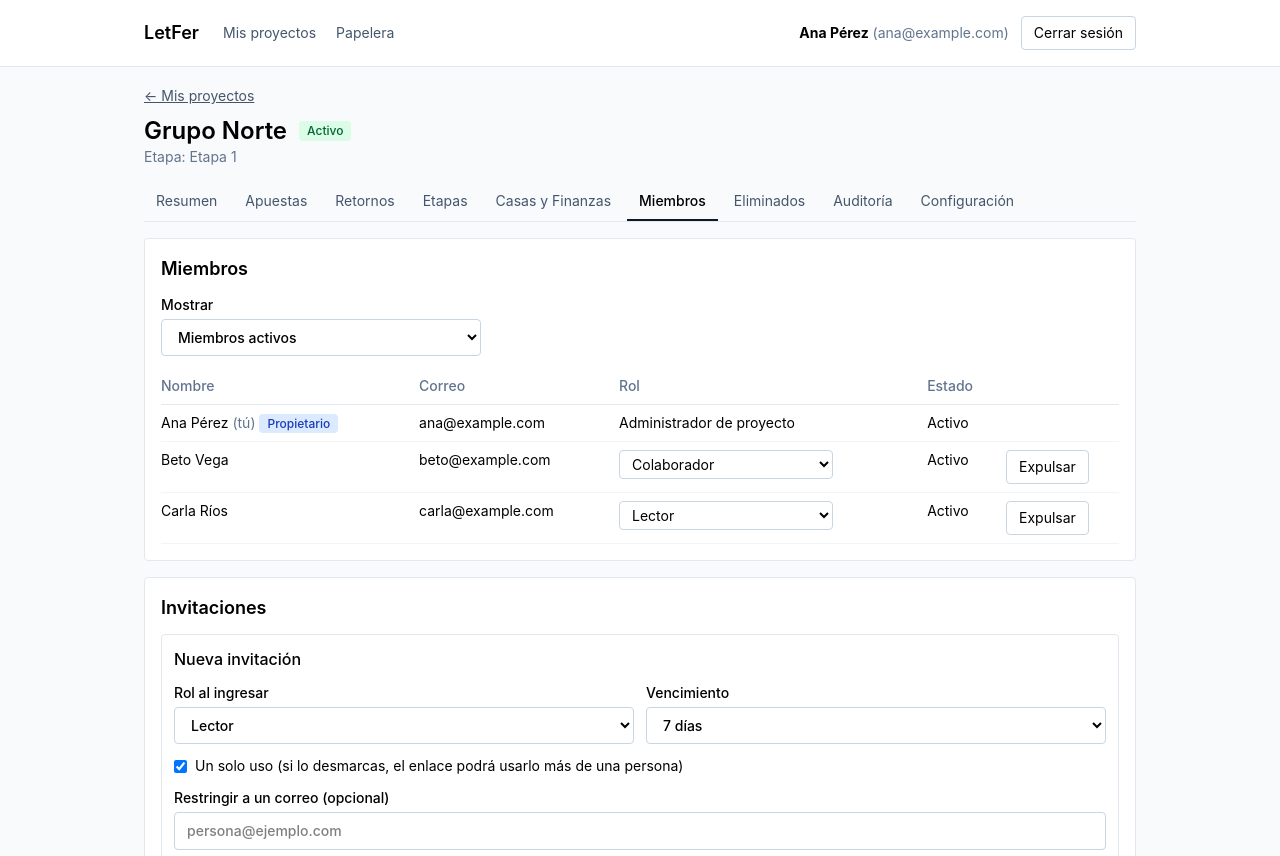
Scenario: miembros › expulsión › pide confirmación, envía el motivo y actualiza la lista
Click the button with aria-label "Expulsar a Beto Vega" at coordinates (1047, 467), box [1006, 450, 1089, 484]
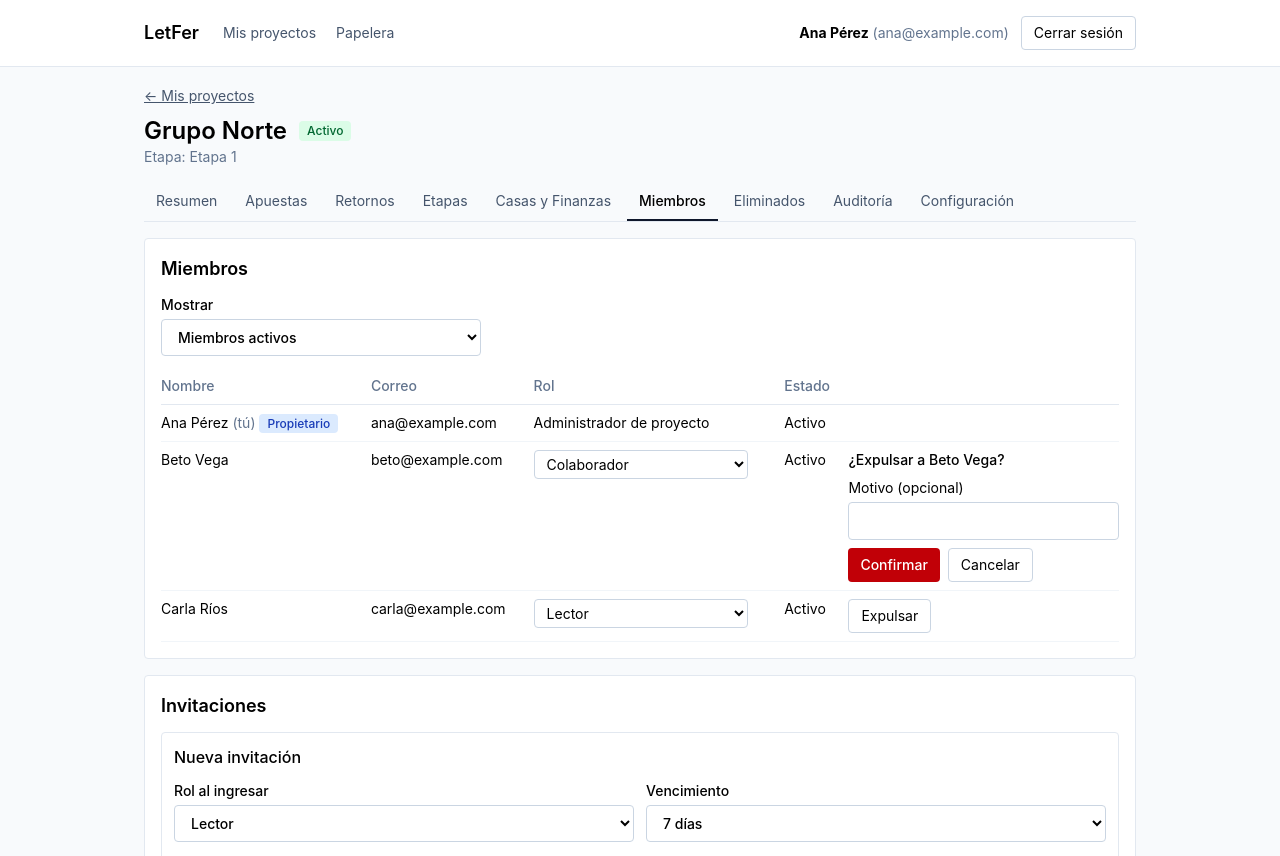
Type " Incumplió acuerdos " into the field labelled "Motivo (opcional)" at coordinates (984, 521), box [848, 502, 1119, 540]
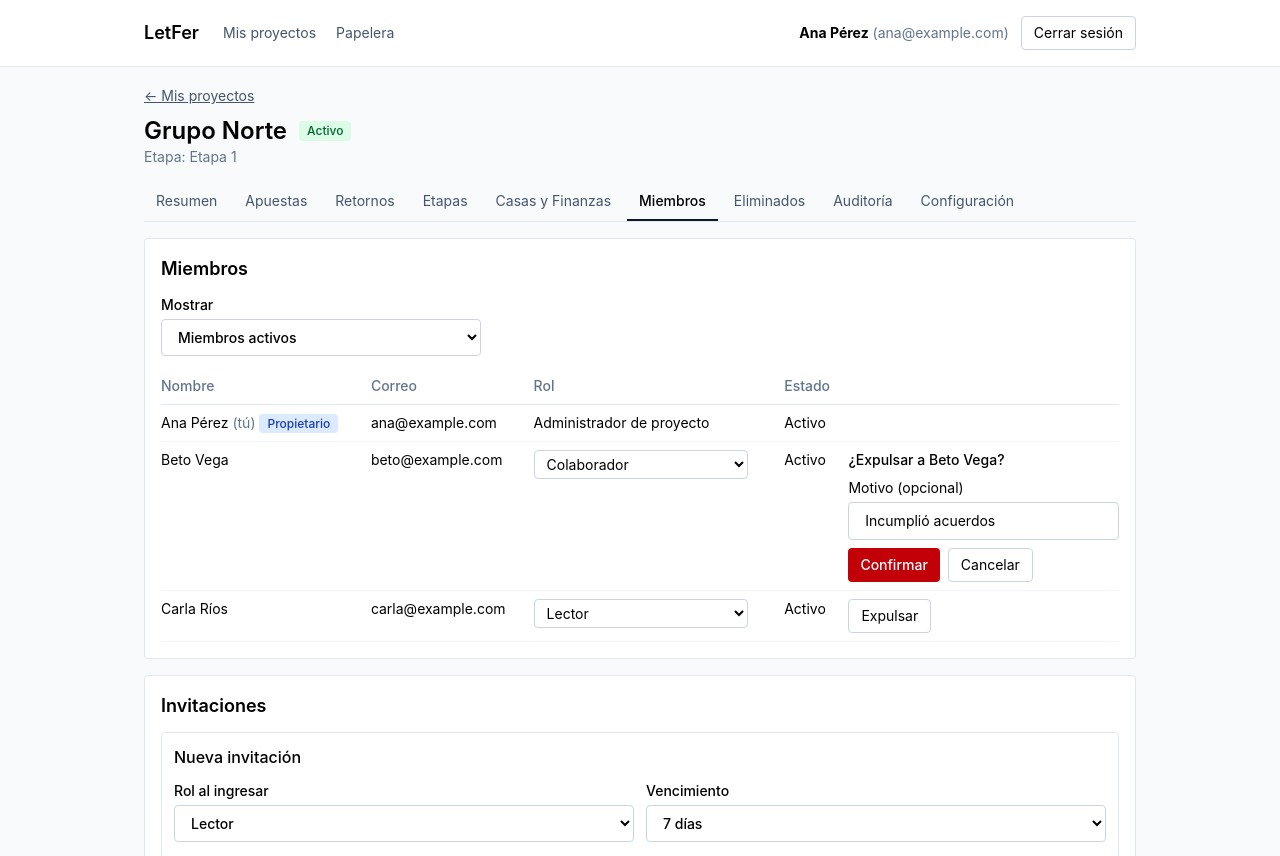
Click the button "Confirmar" at coordinates (894, 565), box [848, 548, 940, 582]
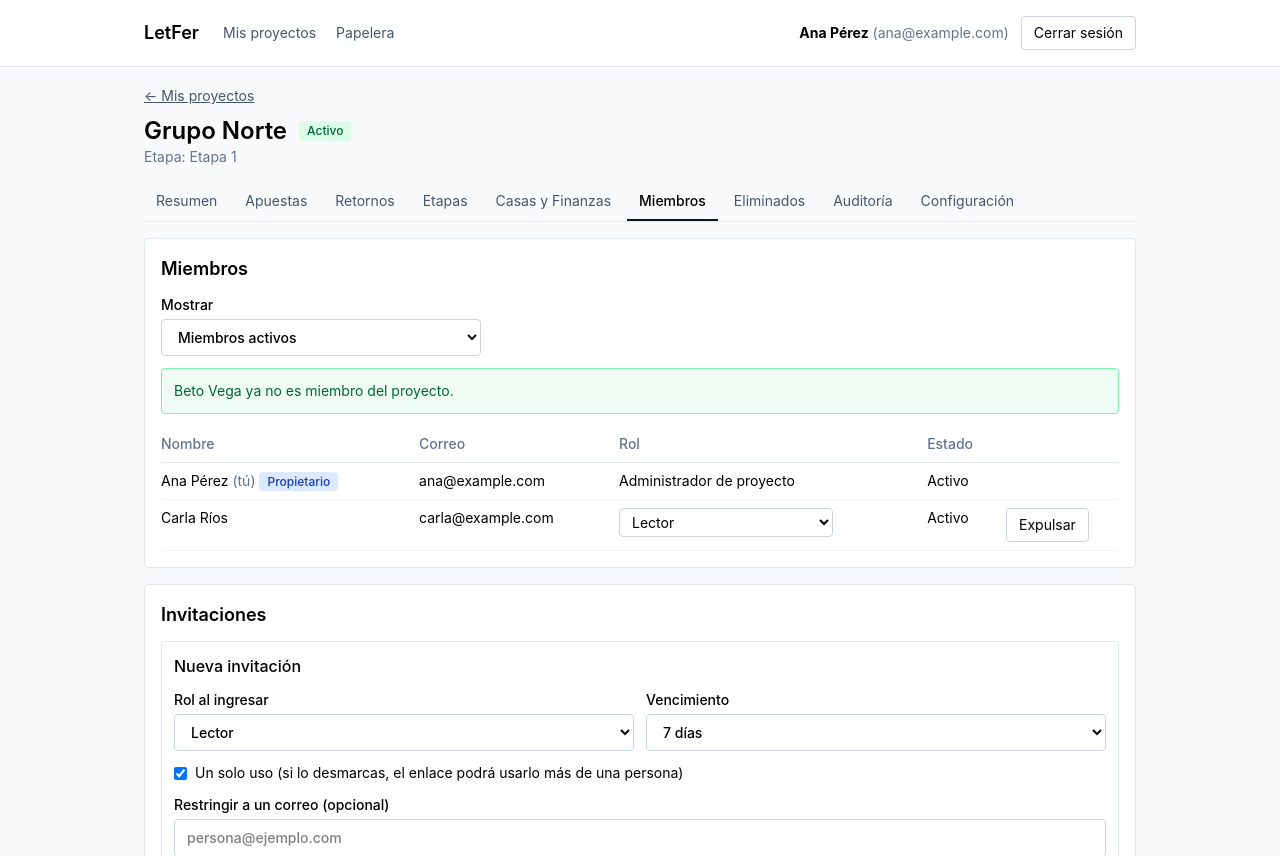
Check: the text "Beto Vega ya no es miembro del proyecto." is shown, box [161, 368, 1119, 414]
